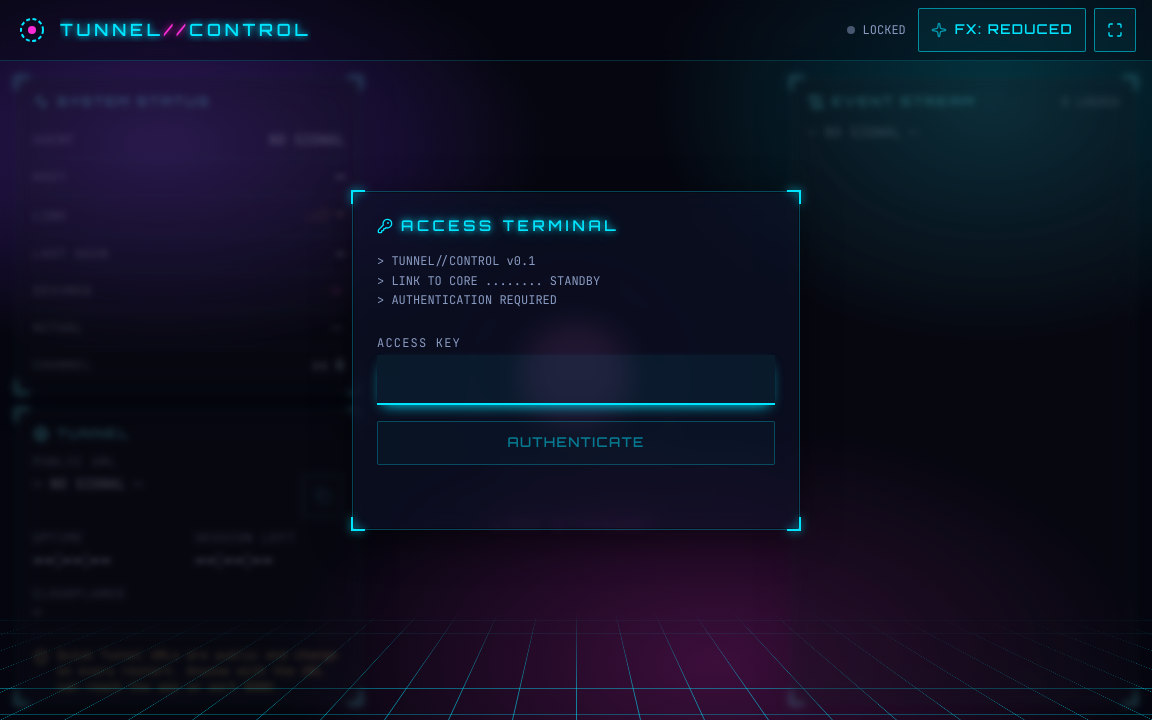
Test: single page: lock, unlock, control › starting asks for a session length first; it is required
Type "correct-horse" into the password field labelled "Access key" at {"x": 576, "y": 379}, box [377, 354, 775, 404]
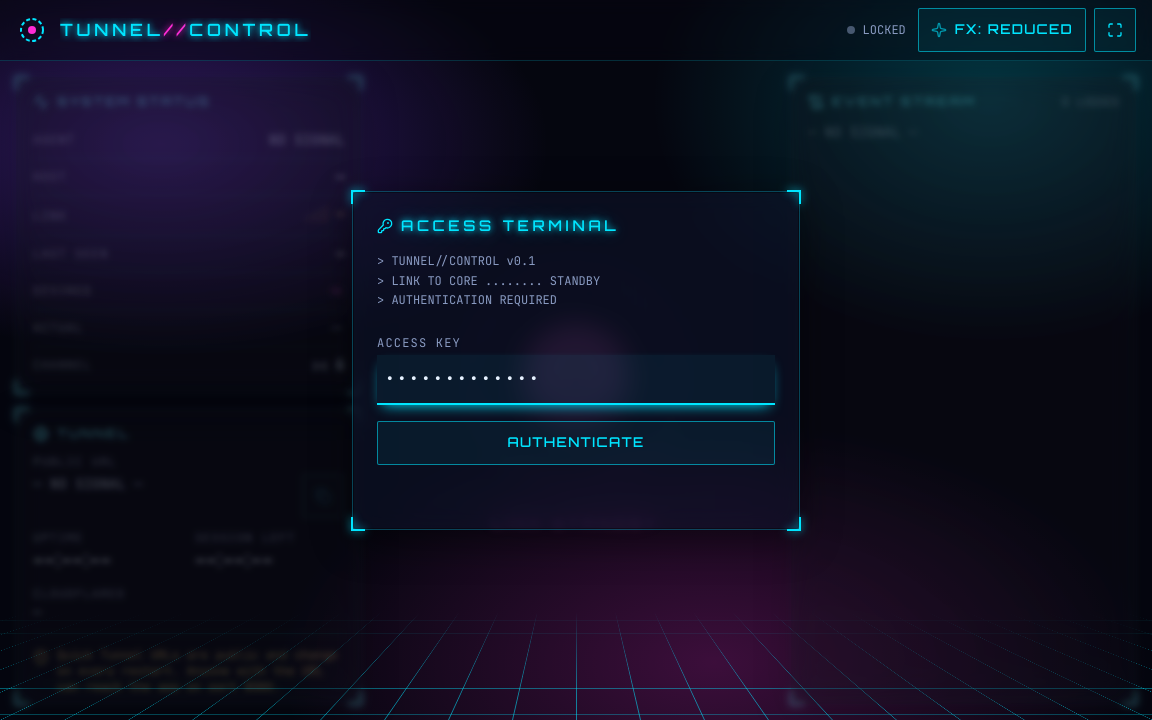
Click the button "Authenticate" at {"x": 576, "y": 442}, box [377, 420, 775, 464]
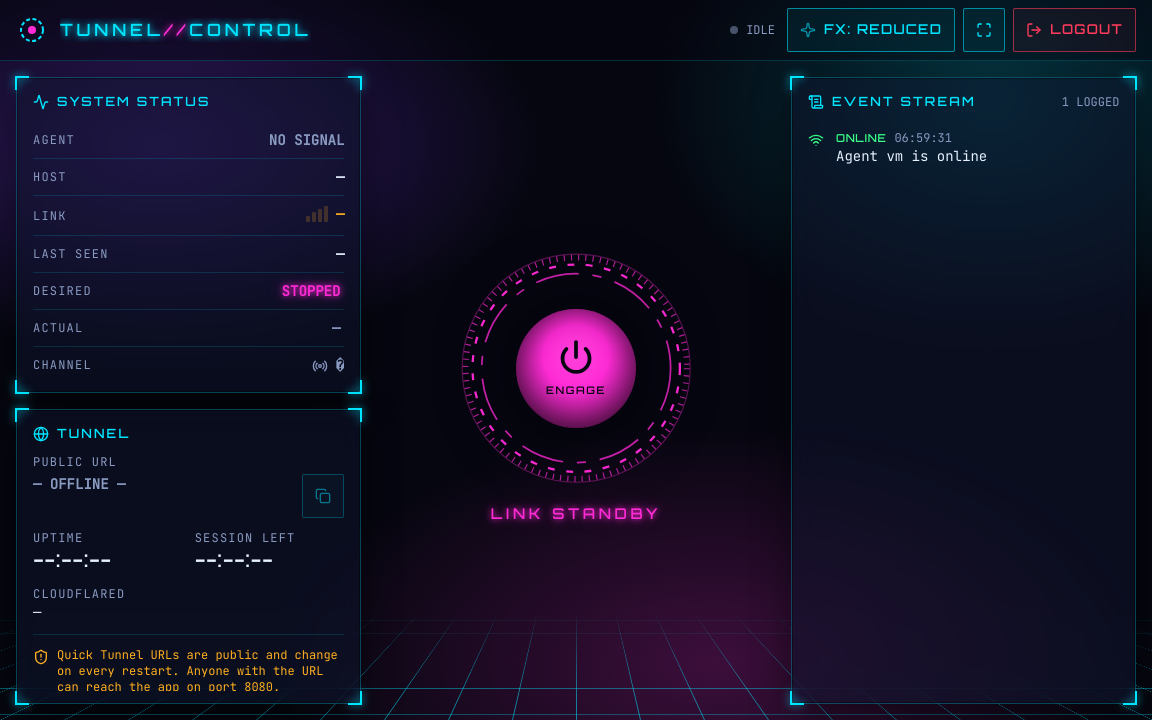
Click the button with aria-label "engage tunnel" at {"x": 576, "y": 368}, box [461, 253, 691, 484]
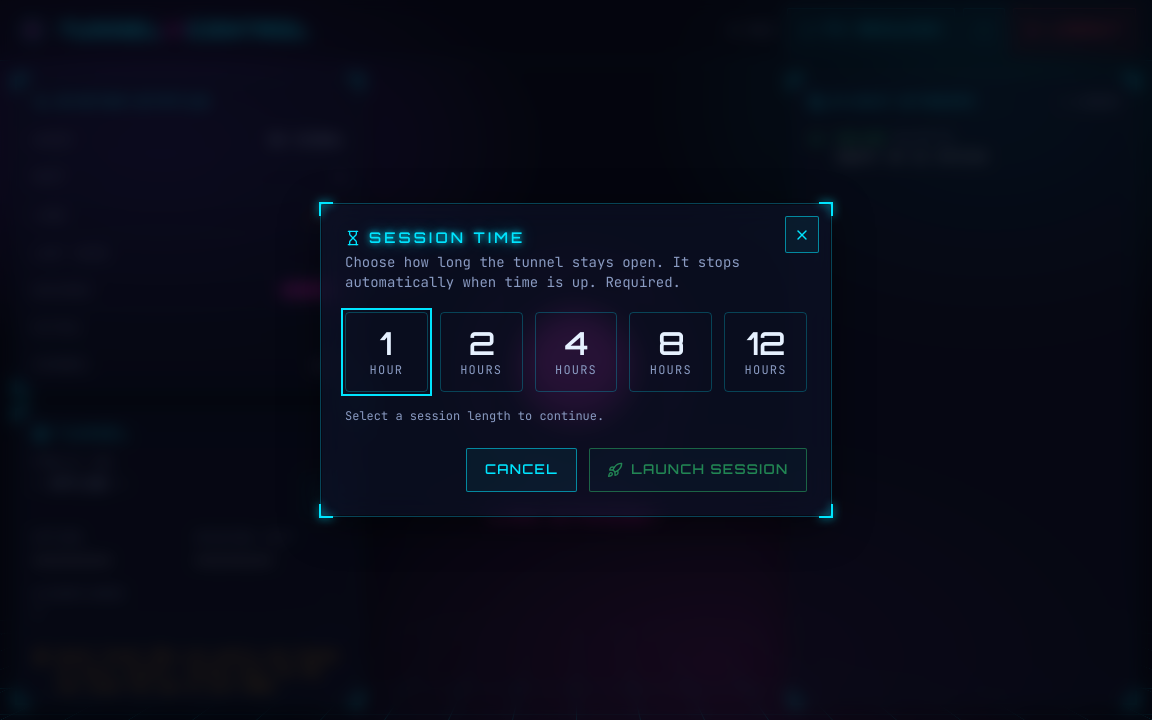
Now the button "Launch session" is disabled, box [589, 448, 807, 492]
Click the radio button labelled "2 hours" at {"x": 481, "y": 352}, box [440, 312, 523, 392]
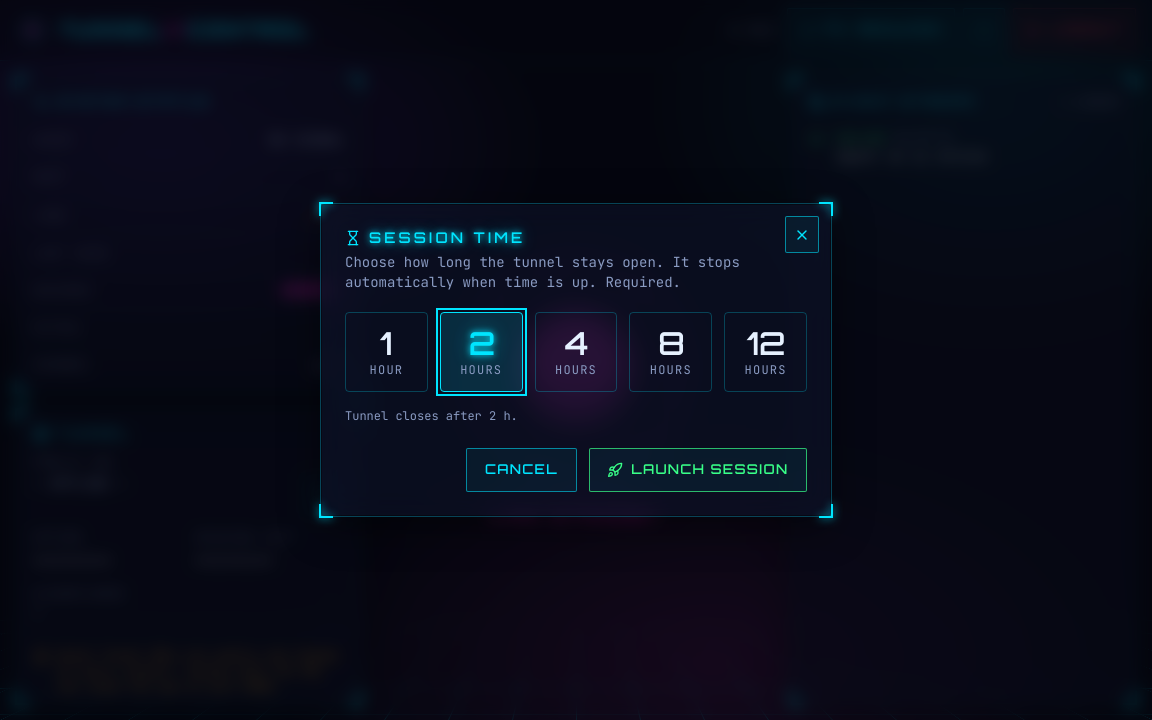
Now the button "Launch session" is enabled
Click the button "Launch session" at {"x": 698, "y": 470}, box [589, 448, 807, 492]
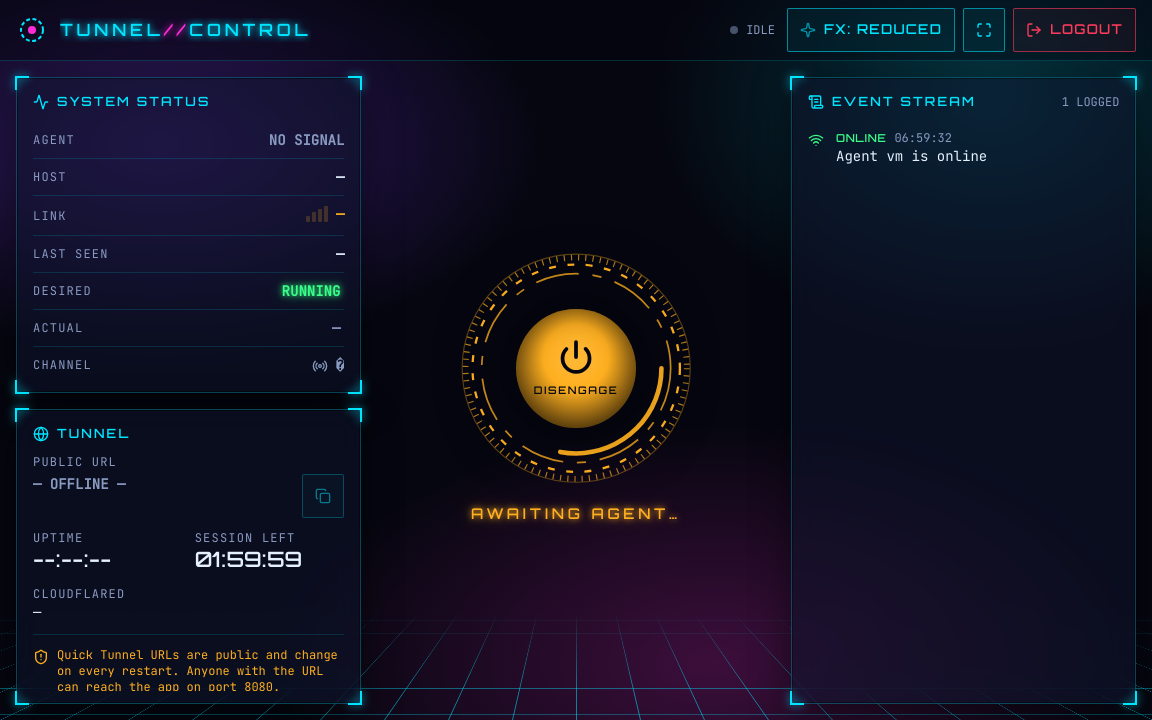
Now the dialog is gone
Now the text "01:59:59" is shown, box [195, 547, 302, 572]
